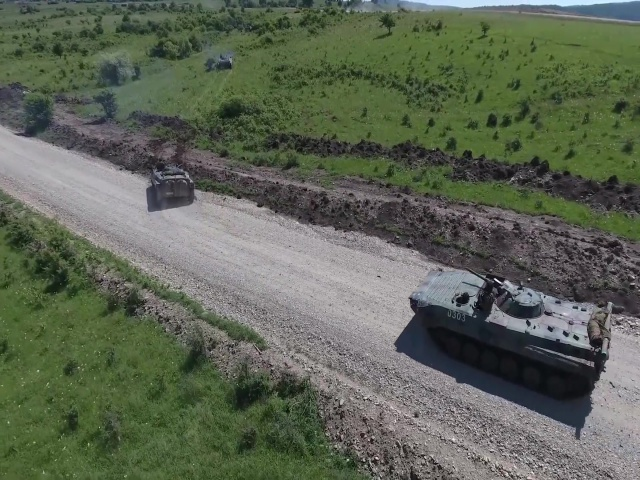vehicle: (405, 266, 615, 402), (149, 165, 196, 210), (218, 55, 233, 71)
